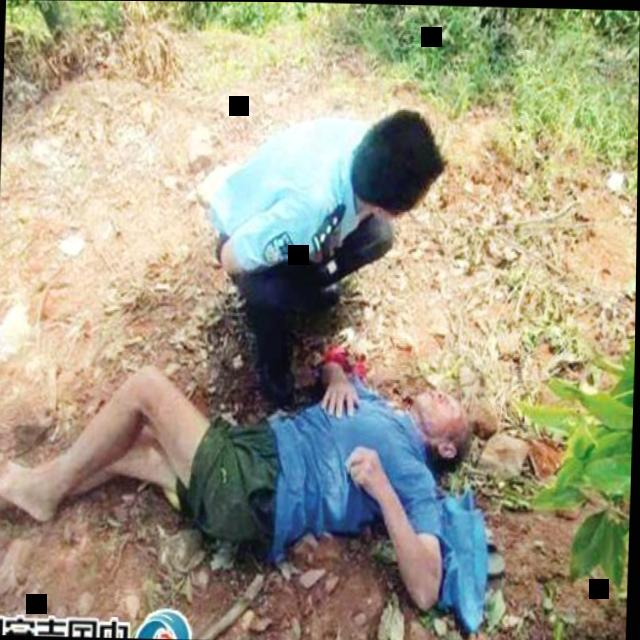Fall-Detected: (0, 342, 498, 628)
